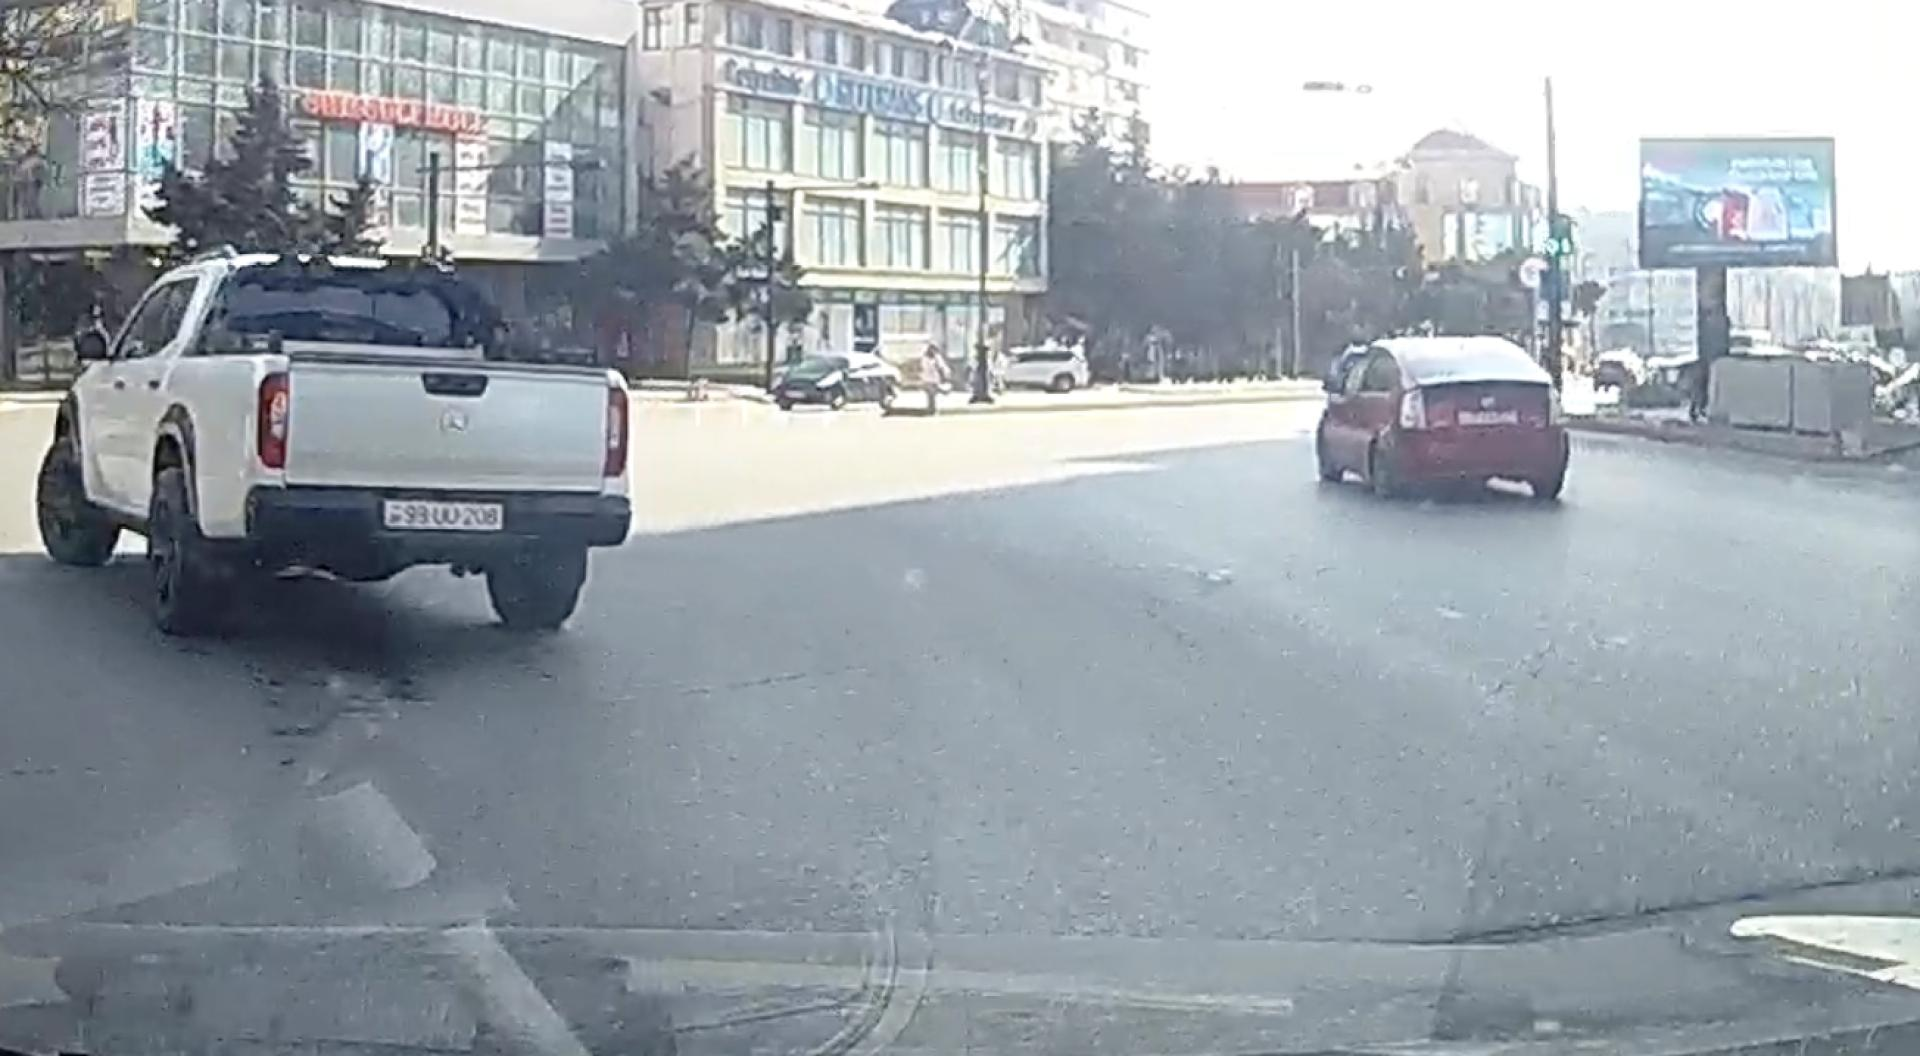banner: (1636, 134, 1839, 270)
